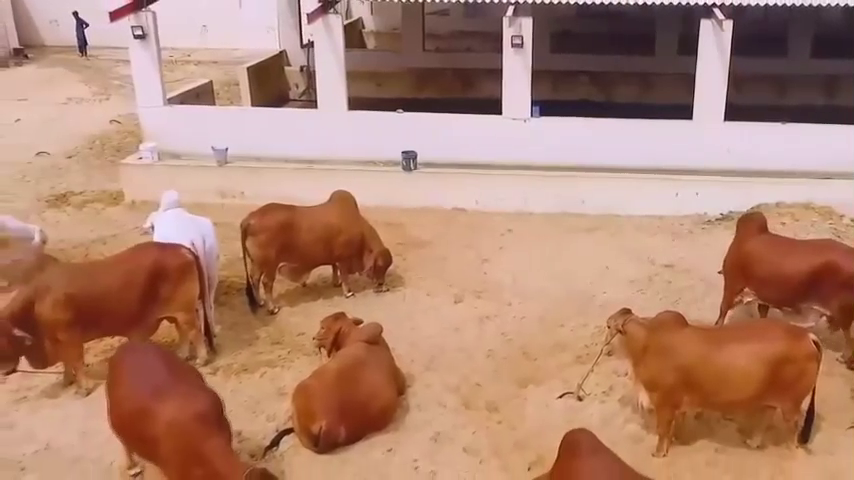bo: (591, 291, 821, 450), (6, 248, 222, 385), (96, 332, 279, 480), (713, 205, 854, 370), (230, 184, 404, 313), (287, 308, 416, 454), (129, 188, 224, 340), (523, 411, 661, 480)
